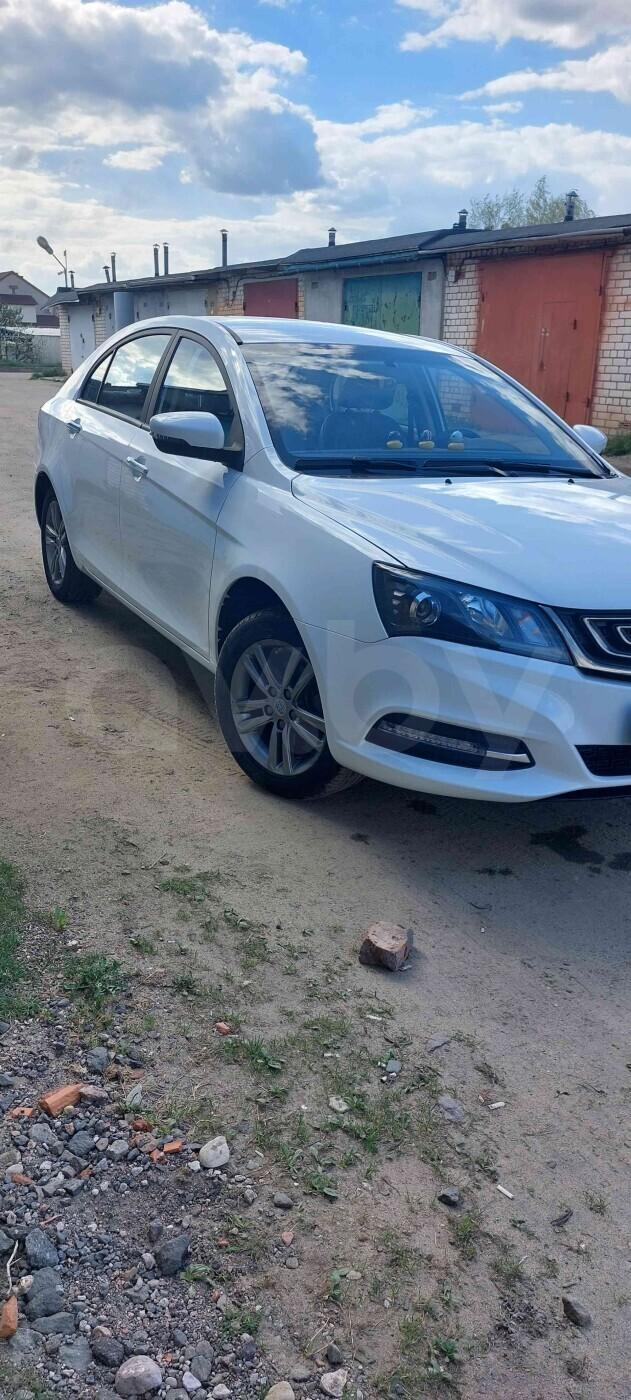Emgrand_2019-2021: (34, 313, 630, 802)
